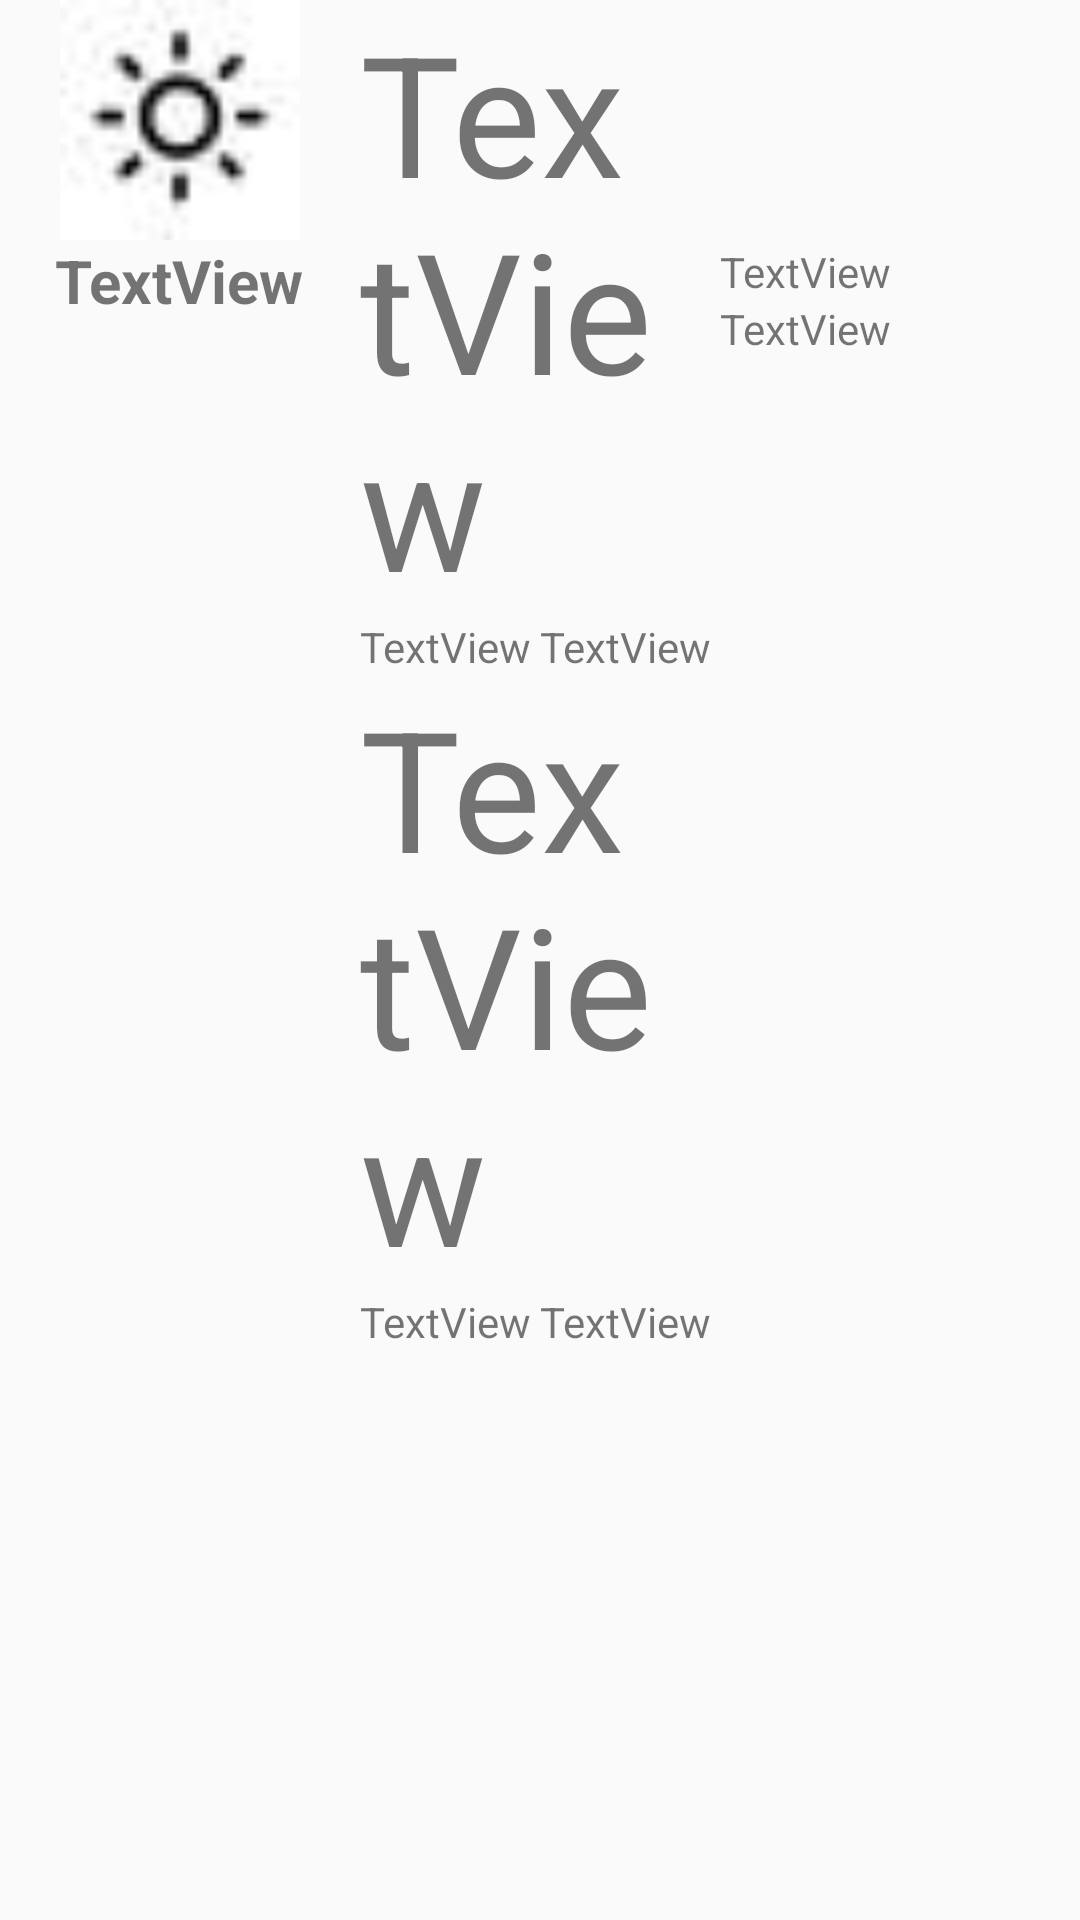

Icon click points for this 1080 × 1920 phone screenshot, format (x=x, y=y):
day sunny: (x=180, y=119)
